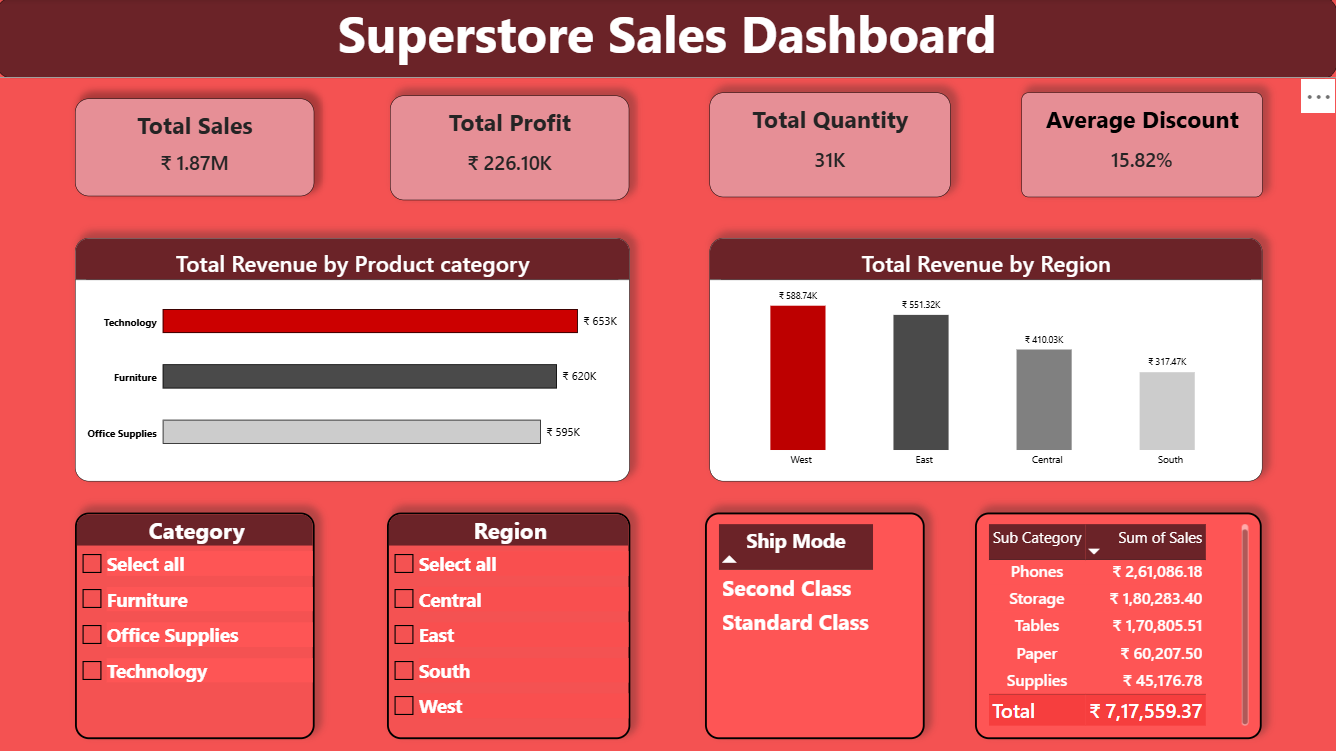

The dashboard page shown, as its layout file describes it:
{"tool":"powerbi","page":{"name":"Page 1","canvas":[1920,1080],"ordinal":0},"visuals":[{"type":"card","title":"Total Sales","fields":{"Values":["Sum(Sample - Superstore.Sales)"]},"box":[112.5,144.4,342.5,140],"z":0},{"type":"card","title":"Total Profit","fields":{"Values":["Sum(Sample - Superstore.Profit)"]},"box":[562.5,140,342.5,150],"z":1000},{"type":"card","title":"Total Quantity","fields":{"Values":["Sum(Sample - Superstore.Quantity)"]},"box":[1020,135,345,150],"z":2000},{"type":"card","title":"Average Discount","fields":{"Values":["Avg(Sample - Superstore.Discount)"]},"box":[1467.5,135,345,150],"z":3000},{"type":"barChart","title":"Total Revenue by Product category","fields":{"Category":["Sample - Superstore.Category"],"Y":["Sum(Sample - Superstore.Sales)"]},"box":[112.1,343.6,794.5,348.3],"z":4000},{"type":"columnChart","title":"Total Revenue by Region","fields":{"Category":["Sample - Superstore.Region"],"Y":["Sum(Sample - Superstore.Sales)"]},"box":[1021.2,343.6,792.1,348.3],"z":5000},{"type":"slicer","title":"Category","fields":{"Values":["Sample - Superstore.Category"]},"box":[112.1,737.2,343.6,324.5],"z":6000},{"type":"slicer","title":"Region","fields":{"Values":["Sample - Superstore.Region"]},"box":[558.3,737.2,348.3,324.5],"z":7000},{"type":"tableEx","fields":{"Values":["Sample - Superstore.Ship Mode"]},"box":[1014,737.2,314.9,324.5],"z":8000},{"type":"tableEx","fields":{"Values":["Sample - Superstore.Sub Category","Sum(Sample - Superstore.Sales)"]},"box":[1400.5,737.2,410.4,324.5],"z":9000},{"type":"textbox","box":[0,0,1920.7,114.5],"z":10000}]}

Visuals, with their boxes in screenshot pixels (x1, y1, x2, y2), scaled from the page's 1920x1080 canvas onto the 1336x751 screenshot:
"Total Sales" card: [78, 100, 317, 198]
"Total Profit" card: [391, 97, 630, 202]
"Total Quantity" card: [710, 94, 950, 198]
"Average Discount" card: [1021, 94, 1261, 198]
"Total Revenue by Product category" barChart: [78, 239, 631, 481]
"Total Revenue by Region" columnChart: [711, 239, 1262, 481]
"Category" slicer: [78, 513, 317, 738]
"Region" slicer: [388, 513, 631, 738]
tableEx - Sample - Superstore.Ship Mode: [706, 513, 925, 738]
tableEx - Sample - Superstore.Sub Category x Sum(Sample - Superstore.Sales): [975, 513, 1260, 738]
textbox: [0, 0, 1335, 80]
